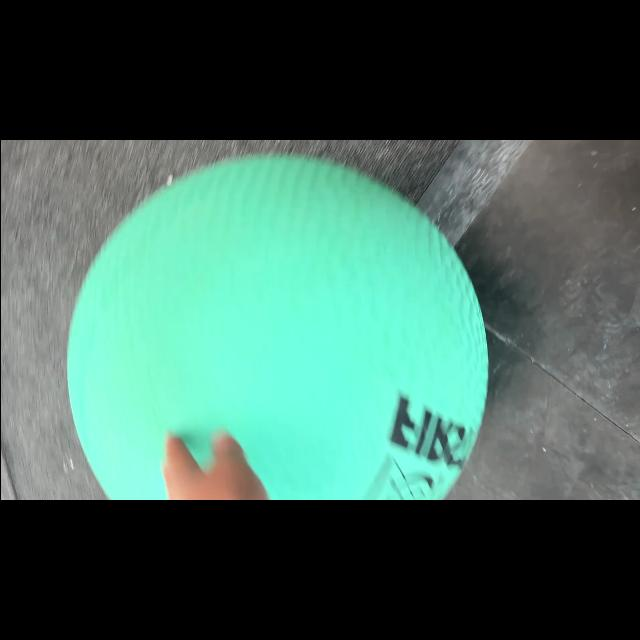ALGAE: (64, 154, 488, 498)
